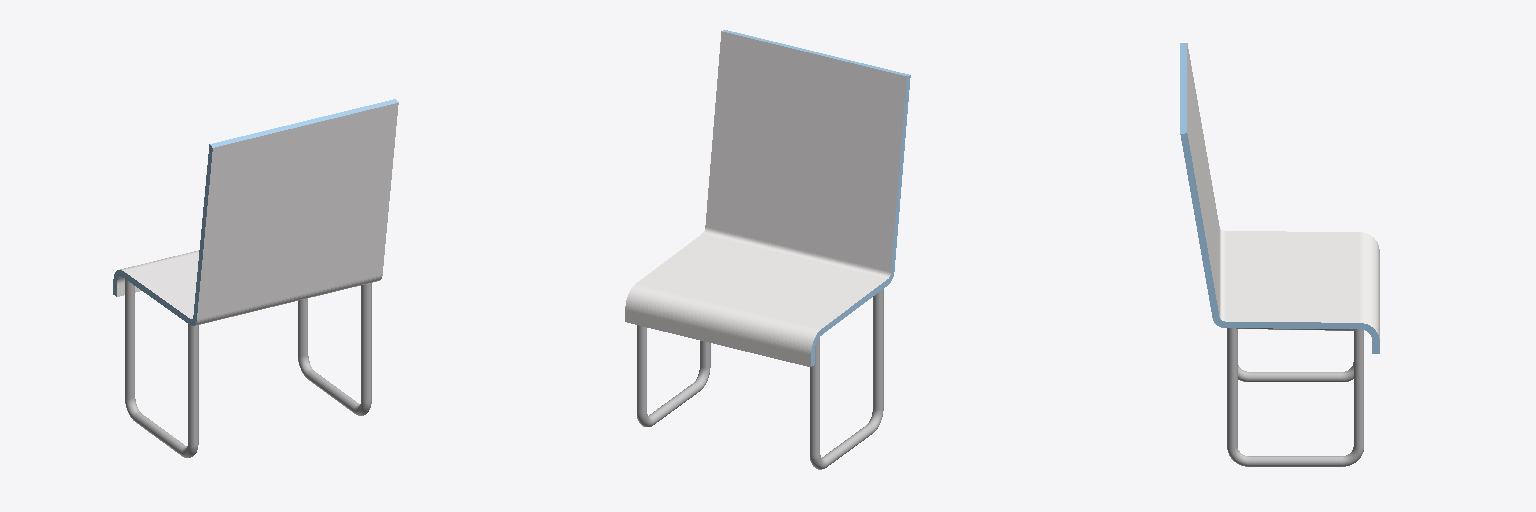
3 renders of one model, left to right at view 1: azimuth 30°, elevation 25°; view 2: azimuth 150°, elevation 25°; view 3: azimuth 270°, elevation 25°, orthographic.
Parts seen in each view (by area): view 1: 挤压.1, 扫描; view 2: 挤压.1, 扫描; view 3: 挤压.1, 扫描.
Boxes of the visible parts, <box> form: 挤压.1: <box>113,99,398,325</box>; 扫描: <box>125,279,371,457</box>; 挤压.1: <box>625,30,910,366</box>; 扫描: <box>637,289,883,469</box>; 挤压.1: <box>1180,43,1379,353</box>; 扫描: <box>1227,328,1363,466</box>.
Size of the model in its own units: 415 by 719 by 386.